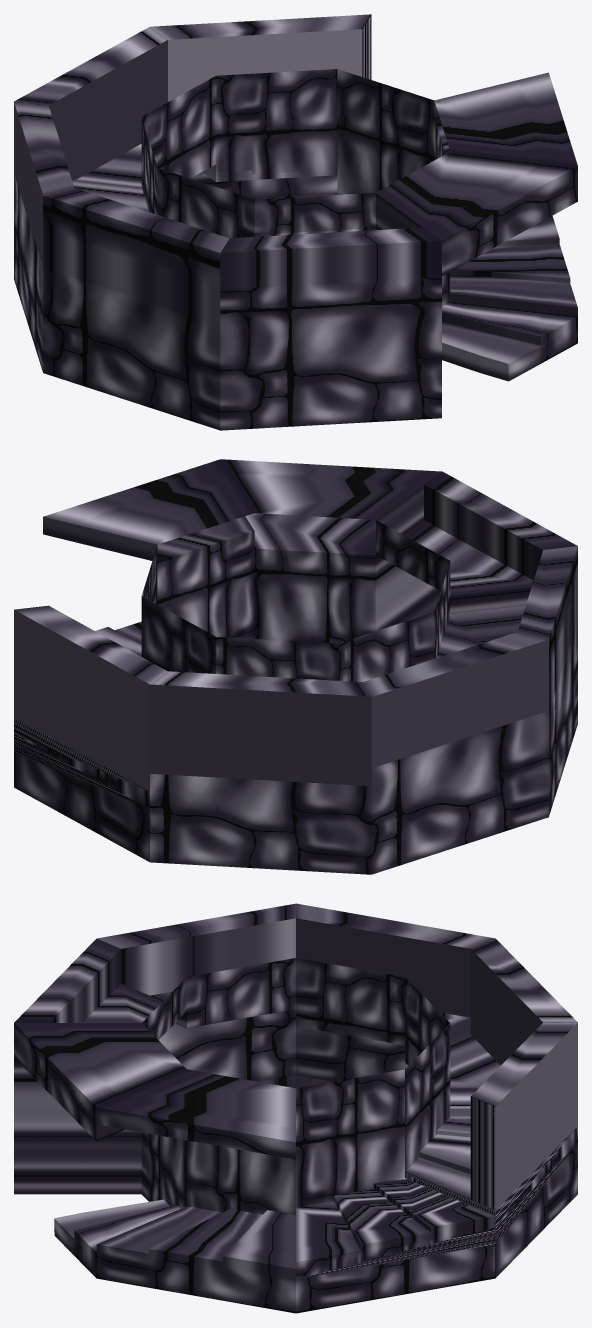
Rendered from stairs.fbx.
3 renders of one model, top to bottom at view 1: azimuth 30°, elevation 25°; view 2: azimuth 150°, elevation 25°; view 3: azimuth 270°, elevation 25°, orthographic. The views are drawn at different scales.
Visible parts, largest first — view 1: cirlcewall; view 2: cirlcewall; view 3: cirlcewall.
Part boxes in pixels (box(x1,y1,x2,y2)): cirlcewall: box(14, 14, 577, 430); cirlcewall: box(14, 459, 577, 874); cirlcewall: box(14, 903, 577, 1313).
Size of the model in its own units: 29.86 by 10.04 by 29.86.
